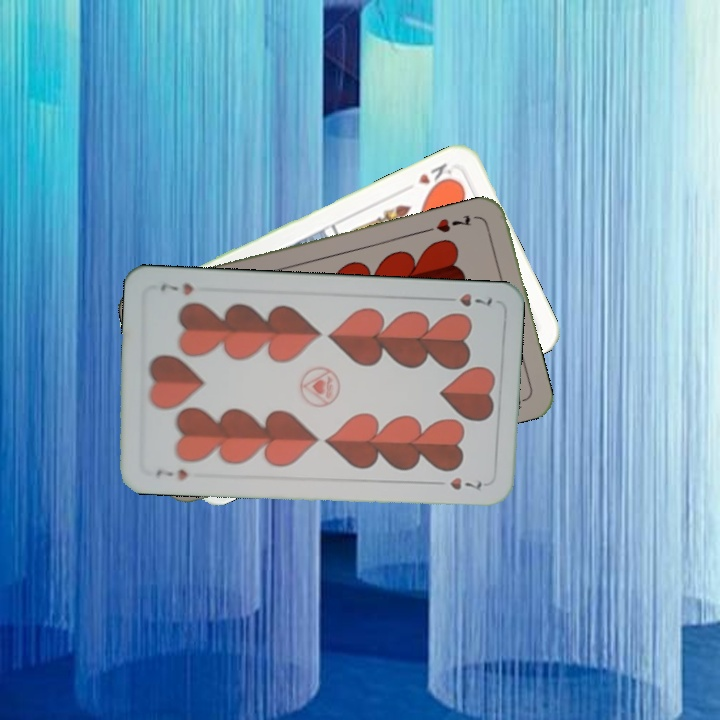H7: (439, 289, 496, 309), (432, 211, 473, 236), (152, 465, 190, 483)
HK: (413, 158, 456, 193)
